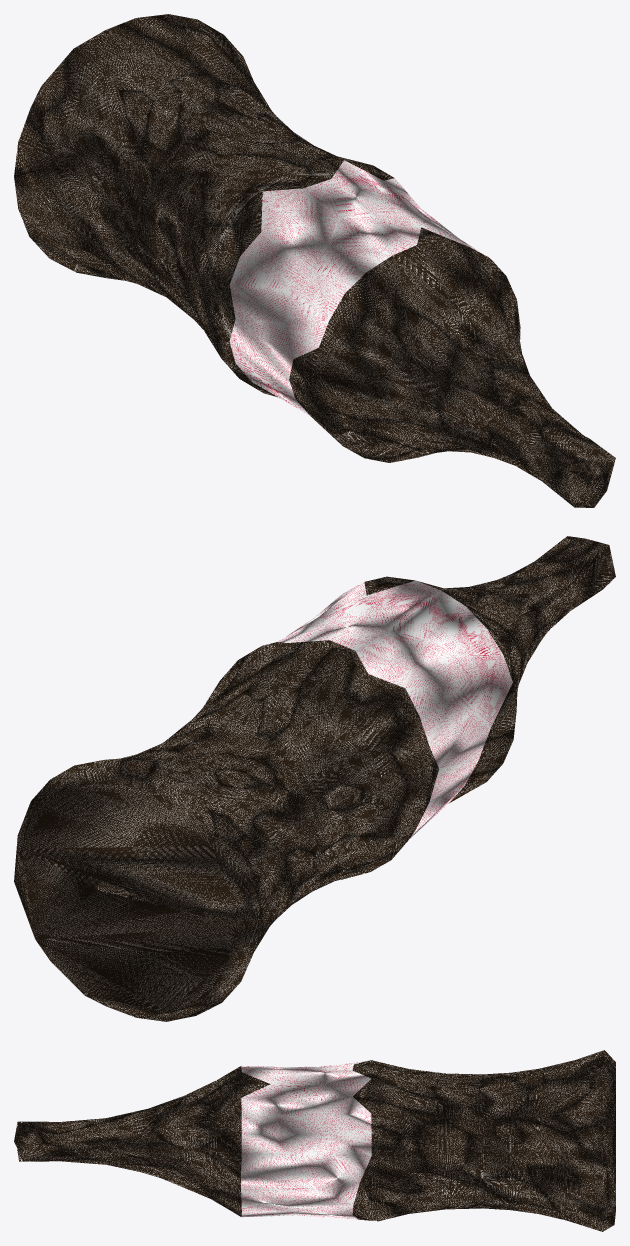
The model's file is model_align.obj.
3 views of the same model, one above another, from view 1: azimuth 30°, elevation 25°; view 2: azimuth 150°, elevation 25°; view 3: azimuth 270°, elevation 25° (orthographic). The views are drawn at different scales.
Size of the model in its own units: 0.077 by 0.0771 by 0.2551.
